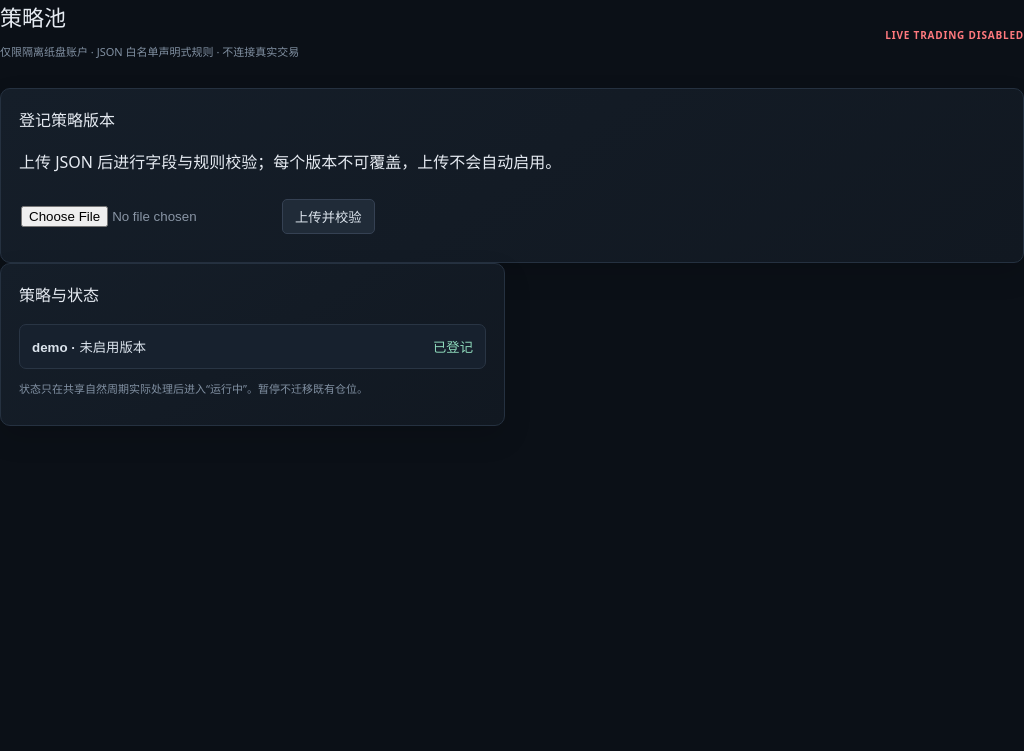
Test: strategy pool desktop workflow › shows registration as paused and keeps enablement pending until a real cycle
The width and height of the screenshot is (1024, 751).
Expected: the text "已登记" is shown, [433, 337, 473, 356]
Click the button "demo · 未启用版本 已登记" at (50, 348), box [19, 324, 486, 369]
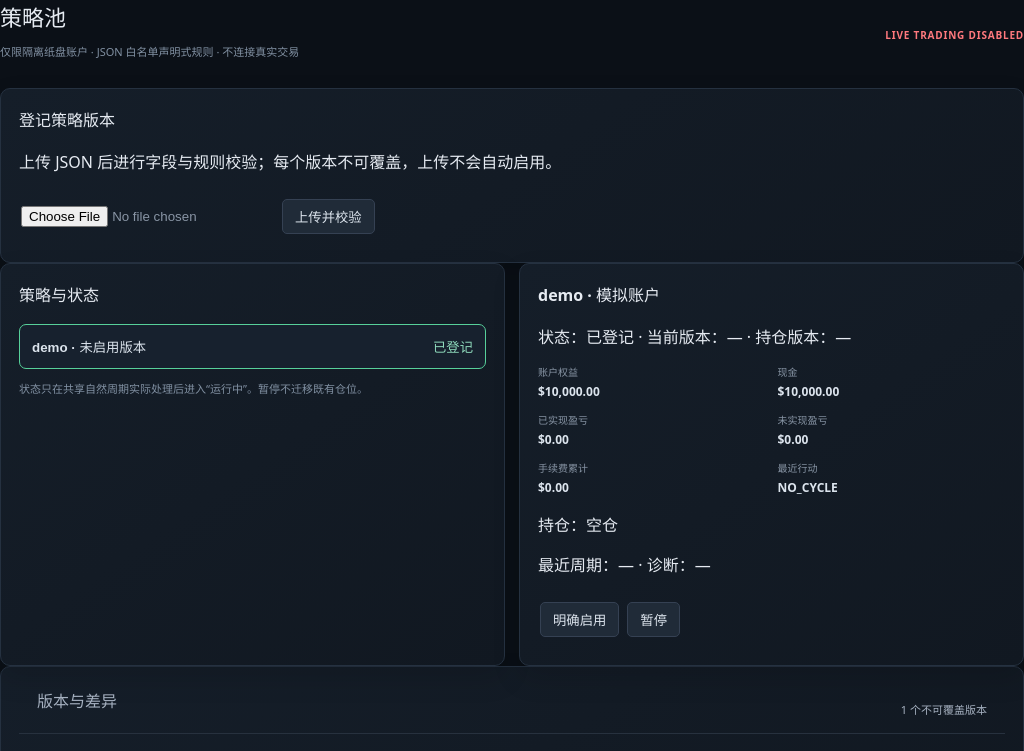
Now the button "明确启用" is shown
Click the button "明确启用" at (580, 620), box [540, 602, 619, 637]
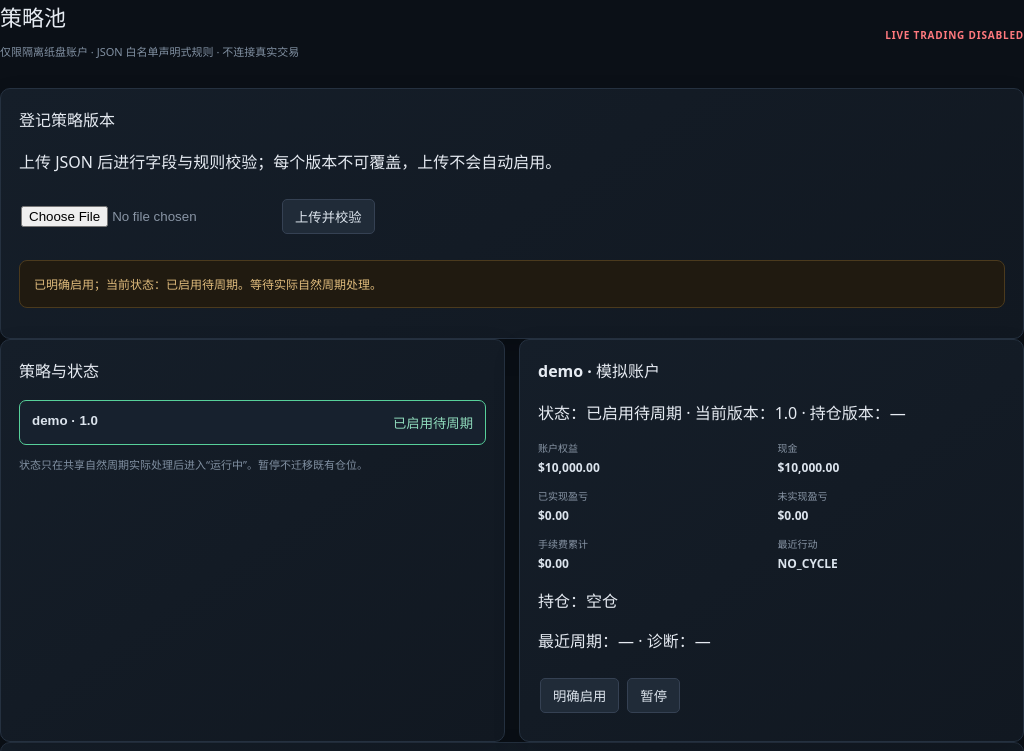
Now the text "已明确启用；当前状态：已启用待周期。等待实际自然周期处理。" is shown, box [19, 260, 1005, 308]
